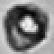correct: (3, 2, 50, 52)
